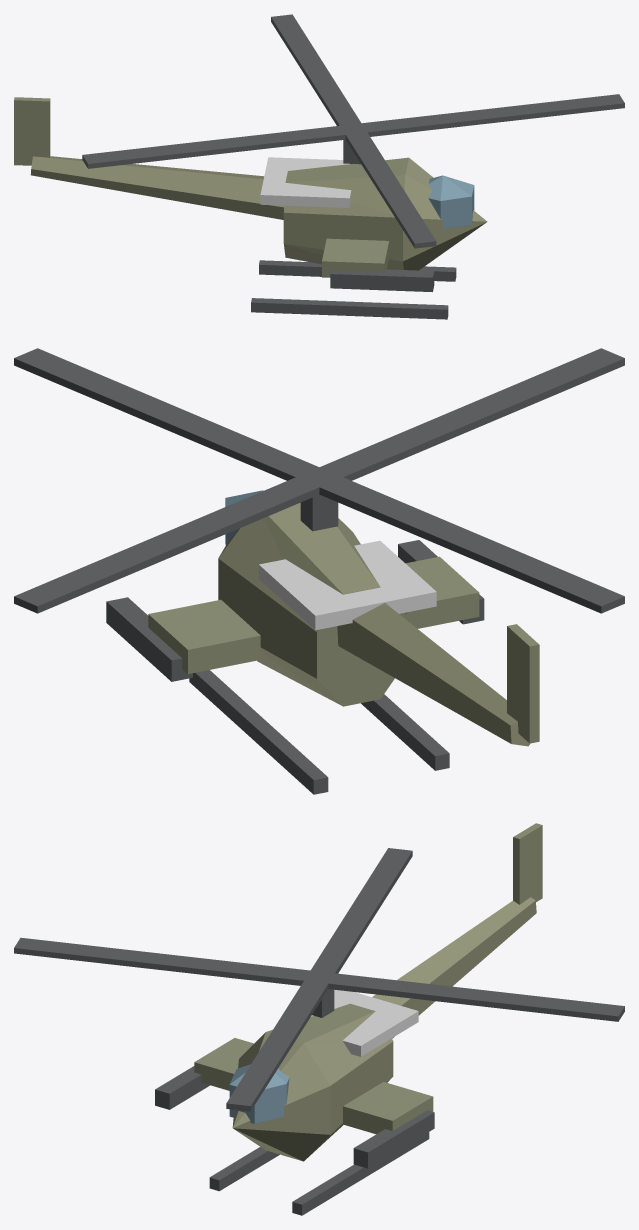
Rendered from helicopter-gunship.glb.
3 renders of one model, top to bottom at view 1: azimuth 30°, elevation 25°; view 2: azimuth 150°, elevation 25°; view 3: azimuth 270°, elevation 25°, orthographic. The views are drawn at different scales.
Visible parts, largest first — view 1: LOD0; view 2: LOD0; view 3: LOD0.
Boxes of the visible parts, <box> form: LOD0: <box>14,14,624,319</box>; LOD0: <box>14,348,624,794</box>; LOD0: <box>14,823,624,1215</box>.
Size of what is drawn, in the model's own units: 1.23 by 0.452 by 1.21.
